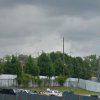Tree: (16, 42, 90, 81)
